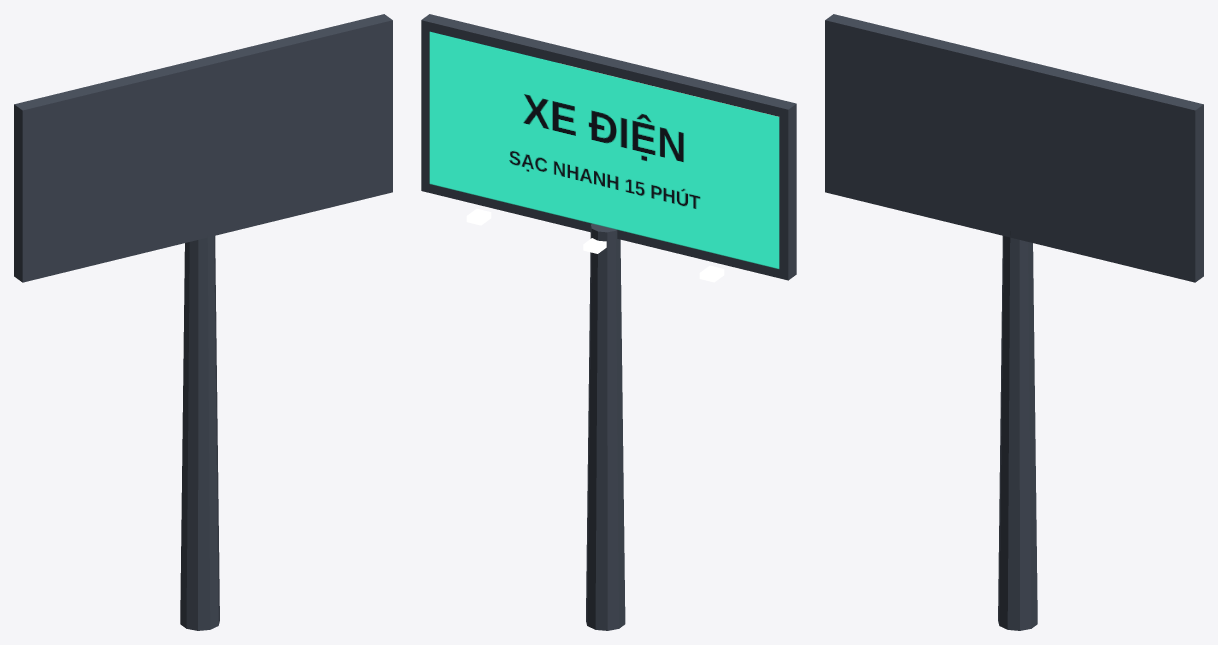
File: billboard_ev.glb
3 renders of one model, left to right at view 1: azimuth 30°, elevation 25°; view 2: azimuth 150°, elevation 25°; view 3: azimuth 330°, elevation 25°, orthographic.
Visible parts, largest first — view 1: billboard; view 2: billboard; view 3: billboard.
Part boxes in pixels (x1,y1,x2,y2): billboard: (14,14,392,630); billboard: (421,14,796,630); billboard: (825,14,1203,630).
Bounding box in the file's own units: 12.6 × 18.3 × 1.5.
3 materials, 1 textured.
